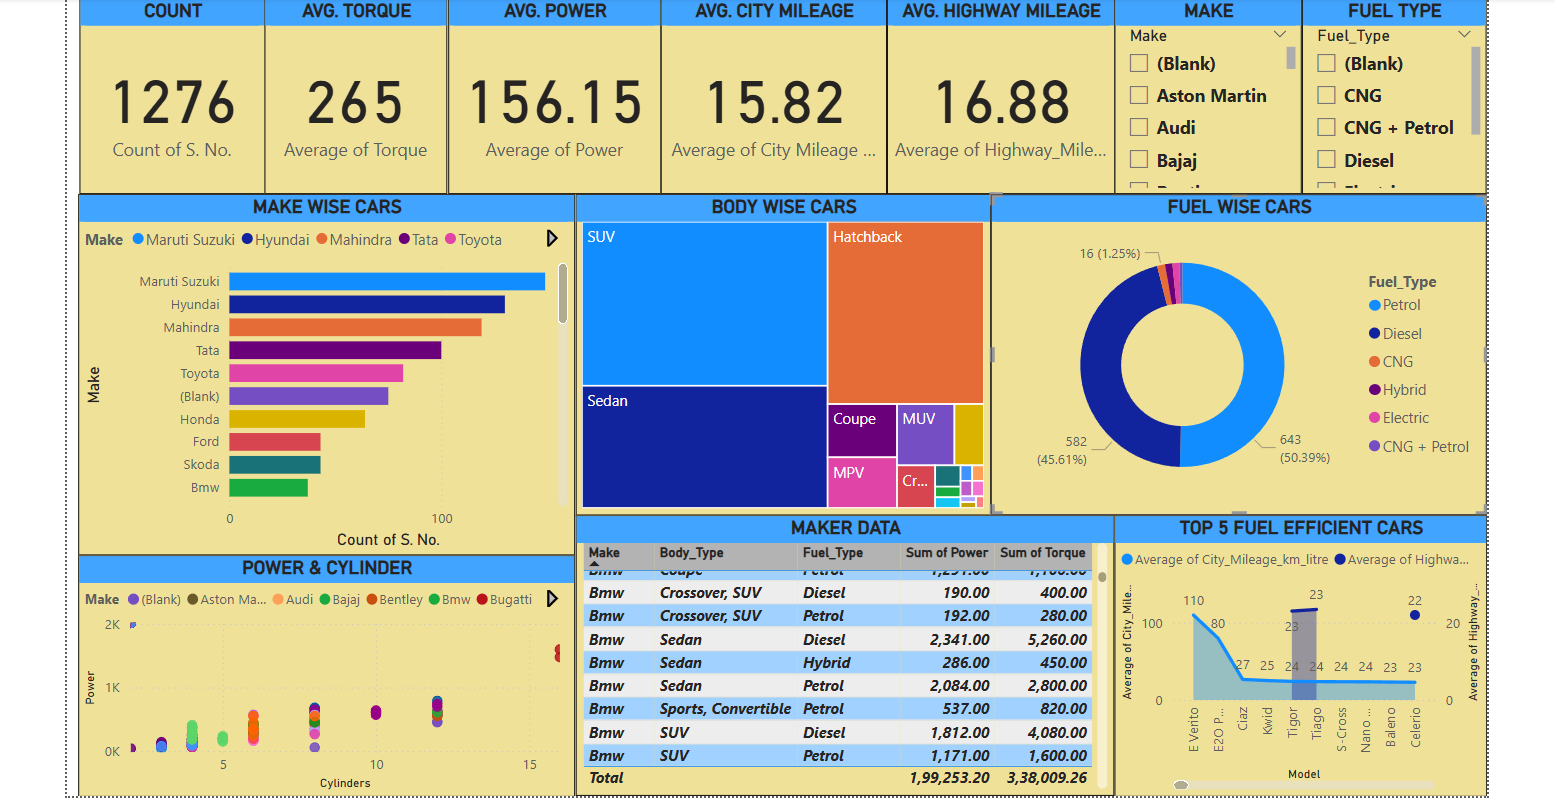

The dashboard page shown, as its layout file describes it:
{"tool":"powerbi","page":{"name":"Page 1","canvas":[1280,720],"ordinal":0},"visuals":[{"type":"card","title":"COUNT","fields":{"Values":["CountNonNull(cars_ds_final.S. No.)"]},"box":[10.8,0,167.6,177.1],"z":0},{"type":"card","title":"AVG. TORQUE","fields":{"Values":["Avg(cars_ds_final.Torque)"]},"box":[178.5,0,164.9,177.1],"z":1000},{"type":"card","title":"AVG. POWER","fields":{"Values":["Avg(cars_ds_final.Power)"]},"box":[343.4,0,192,177.1],"z":2000},{"type":"card","title":"AVG. CITY MILEAGE","fields":{"Values":["Avg(cars_ds_final.City_Mileage_km_litre)"]},"box":[535.4,0,204.1,177.1],"z":3000},{"type":"card","title":"AVG. HIGHWAY MILEAGE","fields":{"Values":["Avg(cars_ds_final.Highway_Mileage_km_litre)"]},"box":[739.5,0,205.5,177.1],"z":4000},{"type":"barChart","title":"MAKE WISE CARS","fields":{"Category":["cars_ds_final.Make"],"Y":["CountNonNull(cars_ds_final.S. No.)"],"Series":["cars_ds_final.Make"]},"box":[10.5,176.7,447.7,325.6],"z":5000},{"type":"treemap","title":"BODY WISE CARS","fields":{"Values":["CountNonNull(cars_ds_final.S. No.)"],"Group":["cars_ds_final.Body_Type"]},"box":[458.3,177.1,374.5,289.3],"z":6000},{"type":"donutChart","title":"FUEL WISE CARS","fields":{"Y":["CountNonNull(cars_ds_final.S. No.)"],"Category":["cars_ds_final.Fuel_Type"]},"box":[832.8,177.1,447.5,289.3],"z":7000},{"type":"scatterChart","title":"POWER & CYLINDER","fields":{"Y":["cars_ds_final.Power"],"Series":["cars_ds_final.Make"],"X":["cars_ds_final.Cylinders"]},"box":[10.5,502.3,447.7,217.4],"z":8000},{"type":"tableEx","title":"MAKER DATA","fields":{"Values":["cars_ds_final.Make","cars_ds_final.Body_Type","cars_ds_final.Fuel_Type","Sum(cars_ds_final.Power)","Sum(cars_ds_final.Torque)"]},"box":[458.7,466.6,485.8,252.5],"z":9000},{"type":"slicer","title":"MAKE","fields":{"Values":["cars_ds_final.Make"]},"box":[945,0,169,177.1],"z":10000},{"type":"slicer","title":"FUEL TYPE","fields":{"Values":["cars_ds_final.Fuel_Type"]},"box":[1114,0,166.3,177.1],"z":11000},{"type":"areaChart","title":"TOP 5 FUEL EFFICIENT CARS","fields":{"Category":["cars_ds_final.Model"],"Y":["Avg(cars_ds_final.City_Mileage_km_litre)"],"Y2":["Avg(cars_ds_final.Highway_Mileage_km_litre)"]},"box":[944.5,466.6,335.9,253.6],"z":12000}]}

Visuals, with their boxes in screenshot pixels (x1, y1, x2, y2):
"COUNT" card: box(85, 0, 269, 190)
"AVG. TORQUE" card: box(269, 0, 450, 190)
"AVG. POWER" card: box(450, 0, 661, 190)
"AVG. CITY MILEAGE" card: box(661, 0, 885, 190)
"AVG. HIGHWAY MILEAGE" card: box(885, 0, 1111, 190)
"MAKE WISE CARS" barChart: box(84, 190, 576, 548)
"BODY WISE CARS" treemap: box(576, 190, 987, 508)
"FUEL WISE CARS" donutChart: box(987, 190, 1479, 508)
"POWER & CYLINDER" scatterChart: box(84, 548, 576, 786)
"MAKER DATA" tableEx: box(577, 508, 1110, 786)
"MAKE" slicer: box(1111, 0, 1296, 190)
"FUEL TYPE" slicer: box(1296, 0, 1479, 190)
"TOP 5 FUEL EFFICIENT CARS" areaChart: box(1110, 508, 1479, 787)
